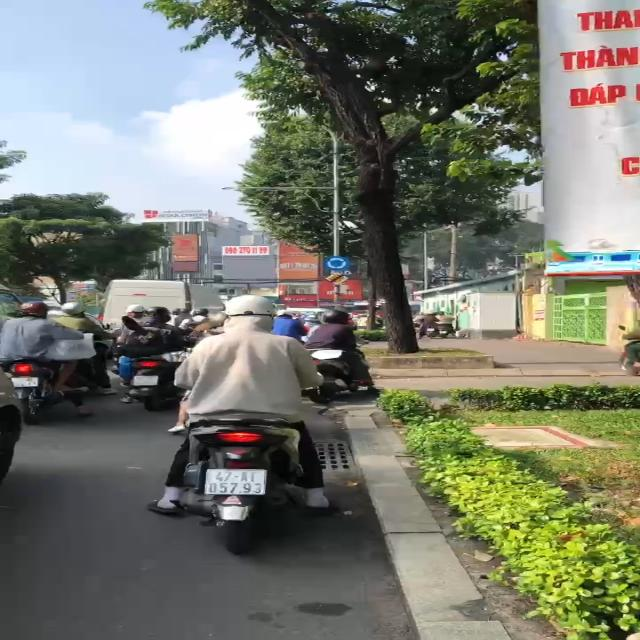Bien bao noi giao nhau chay theo vong xuyen: (321, 252, 354, 271)
